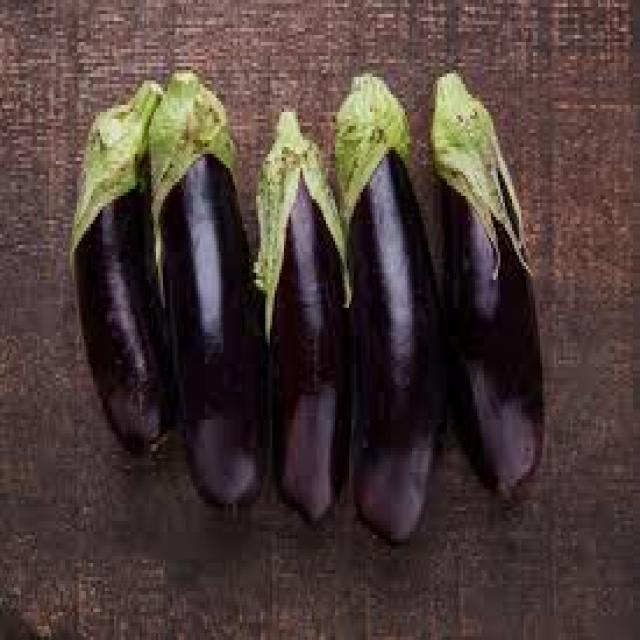eggplant: (151, 70, 268, 500), (428, 70, 542, 493), (338, 74, 438, 538), (70, 94, 172, 454), (258, 109, 344, 518)
